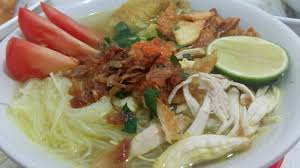soto: (8, 3, 292, 168)
